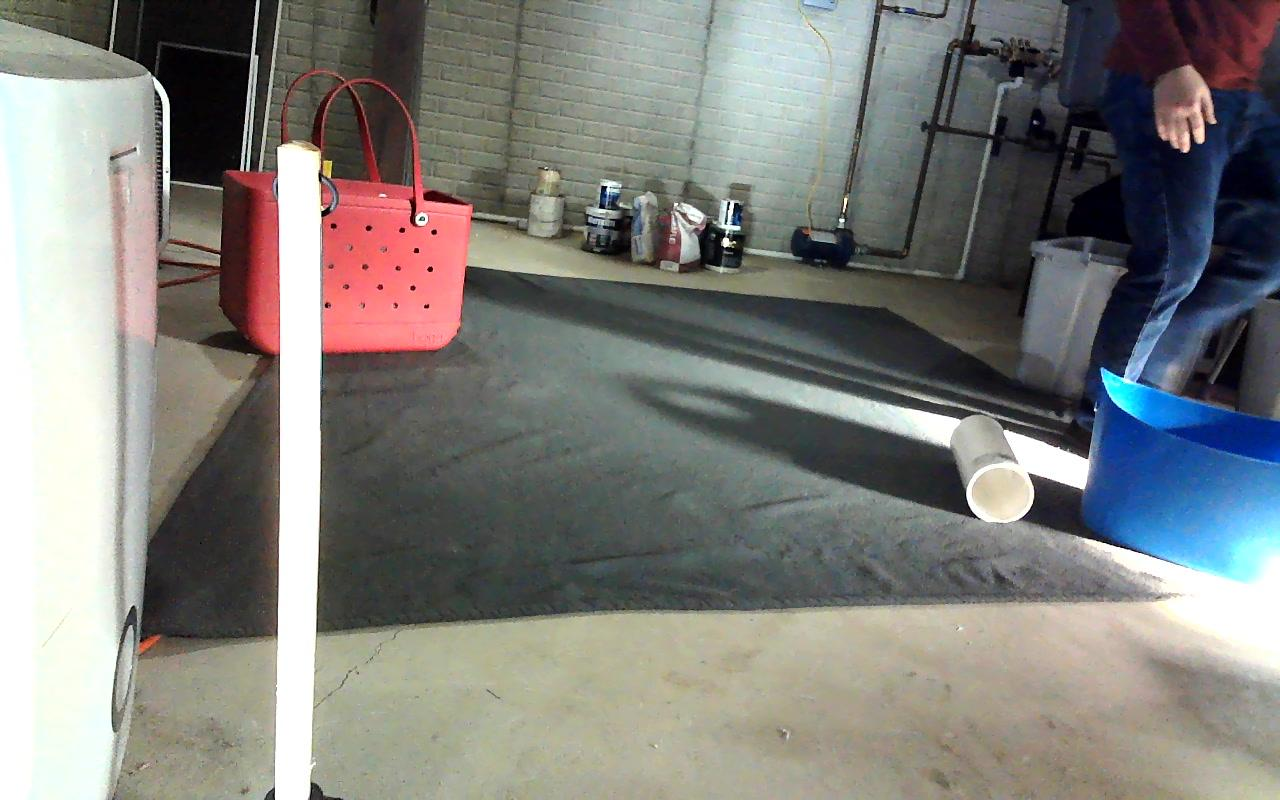coral: (949, 412, 1034, 521)
